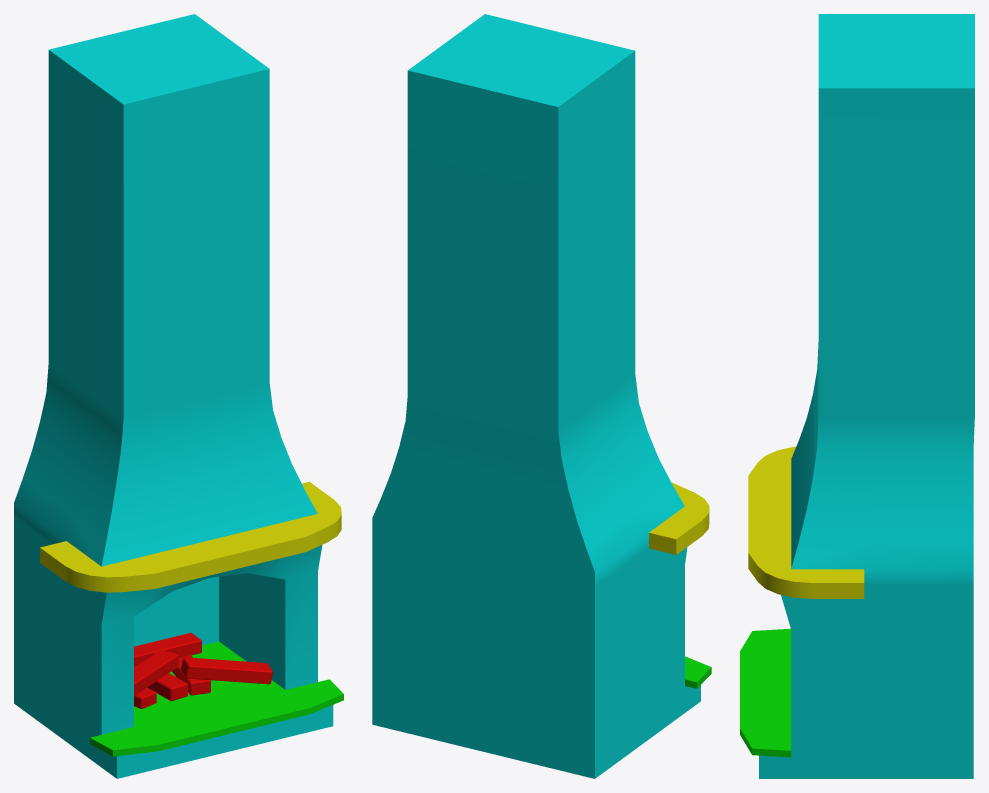
File: fireplace_game3.fbx
3 views of the same model, side by side, from view 1: azimuth 30°, elevation 25°; view 2: azimuth 150°, elevation 25°; view 3: azimuth 270°, elevation 25° (orthographic). The views are drawn at different scales.
Parts seen in each view (by area): view 1: polySurface5; view 2: polySurface5; view 3: polySurface5.
Part boxes in pixels (box(x1,y1,x2,y2)): polySurface5: box(14, 14, 343, 778); polySurface5: box(372, 14, 711, 778); polySurface5: box(740, 14, 974, 778).
Bounding box in the file's own units: 5.73 × 13.1 × 4.15.
